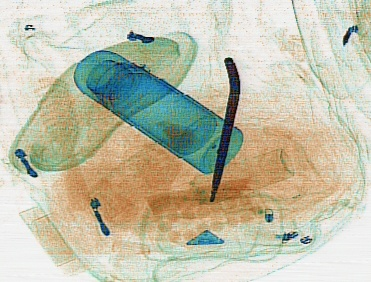pressure: (178, 147, 294, 205)
